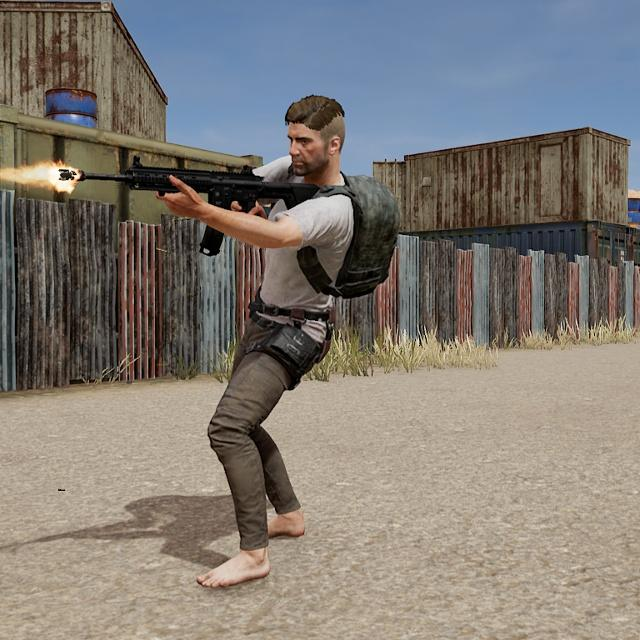head: (282, 85, 354, 188)
people: (168, 81, 375, 595)
